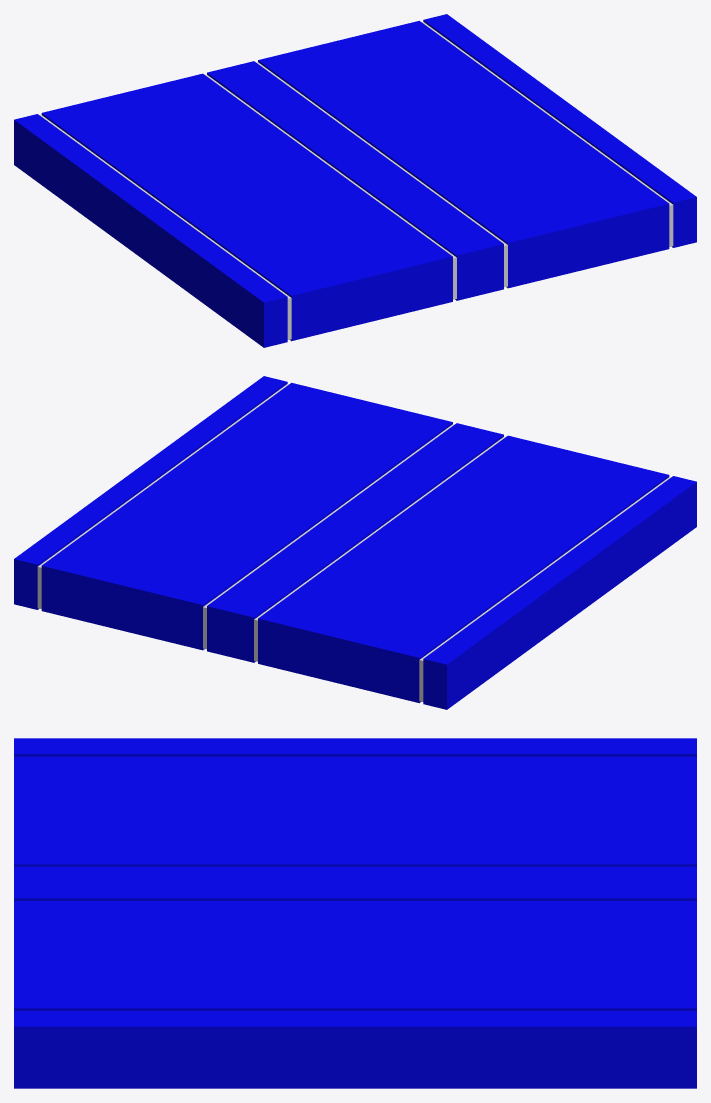
The model's file is Ceiling2x2Merged.fbx.
3 views of the same model, one above another, from view 1: azimuth 30°, elevation 25°; view 2: azimuth 150°, elevation 25°; view 3: azimuth 270°, elevation 25° (orthographic). The views are drawn at different scales.
Parts seen in each view (by area): view 1: Ceiling2x2_Combined; view 2: Ceiling2x2_Combined; view 3: Ceiling2x2_Combined.
Part boxes in pixels (bbox=[...]): Ceiling2x2_Combined: bbox=[14, 14, 696, 347]; Ceiling2x2_Combined: bbox=[14, 376, 696, 709]; Ceiling2x2_Combined: bbox=[14, 738, 696, 1088].
Bounding box in the file's own units: 1000 × 100 × 1000.
